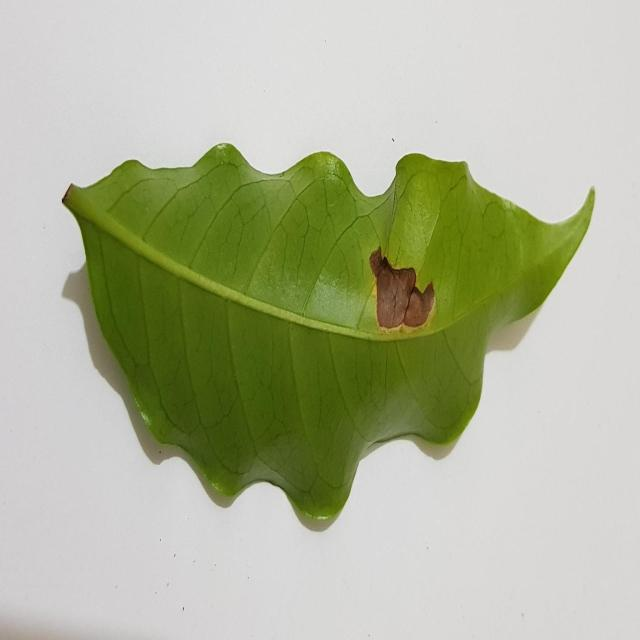Plaga-Minador: (62, 144, 596, 534)
